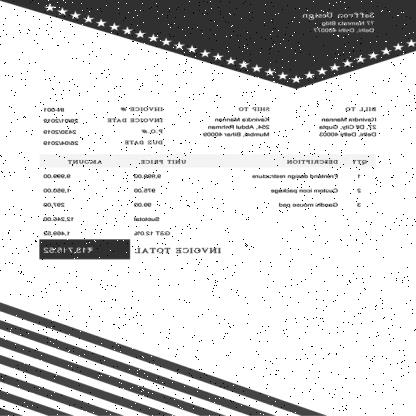Paragraph: (39, 214, 226, 260), (41, 104, 166, 147), (200, 105, 272, 139), (317, 105, 379, 139), (300, 10, 378, 35)
Table: (39, 154, 377, 212)
